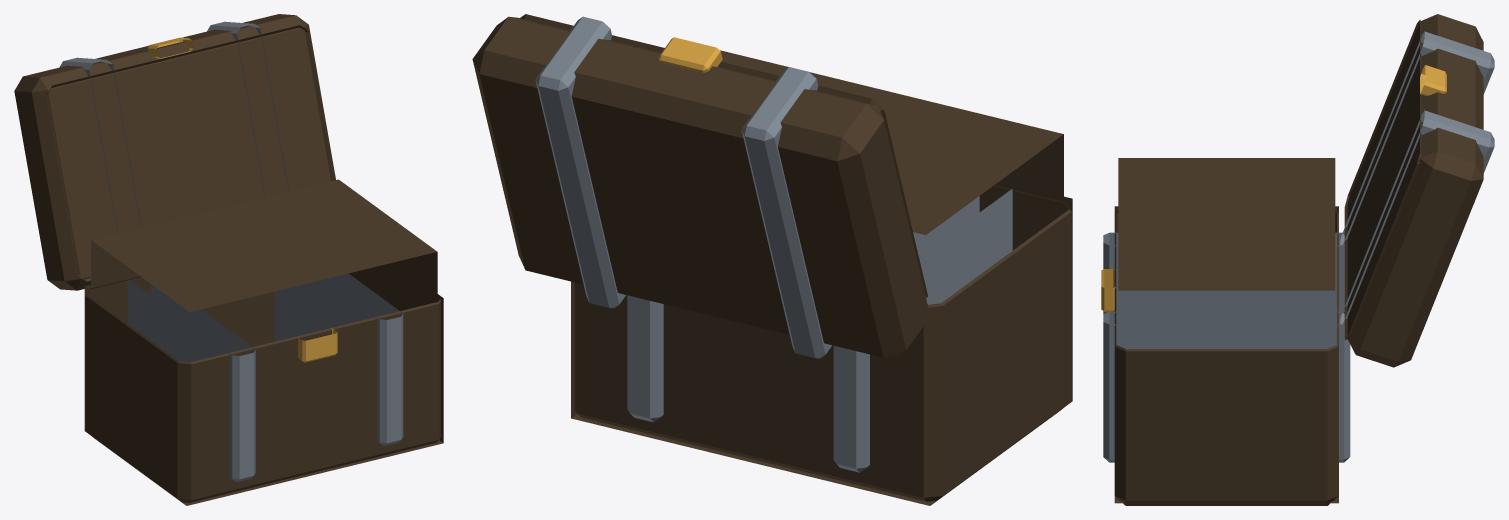
File: prp_cache_chest_open.glb
3 renders of one model, left to right at view 1: azimuth 30°, elevation 25°; view 2: azimuth 150°, elevation 25°; view 3: azimuth 270°, elevation 25°, orthographic. The views are drawn at different scales.
Parts seen in each view (by area): view 1: prp_cache_chest_open; view 2: prp_cache_chest_open; view 3: prp_cache_chest_open.
Part boxes in pixels (left/top/right/bottom): prp_cache_chest_open: left=14, top=14, right=443, bottom=505; prp_cache_chest_open: left=472, top=14, right=1072, bottom=505; prp_cache_chest_open: left=1101, top=14, right=1494, bottom=505.
Size of the model in its own units: 0.94 by 1.08 by 1.05.
